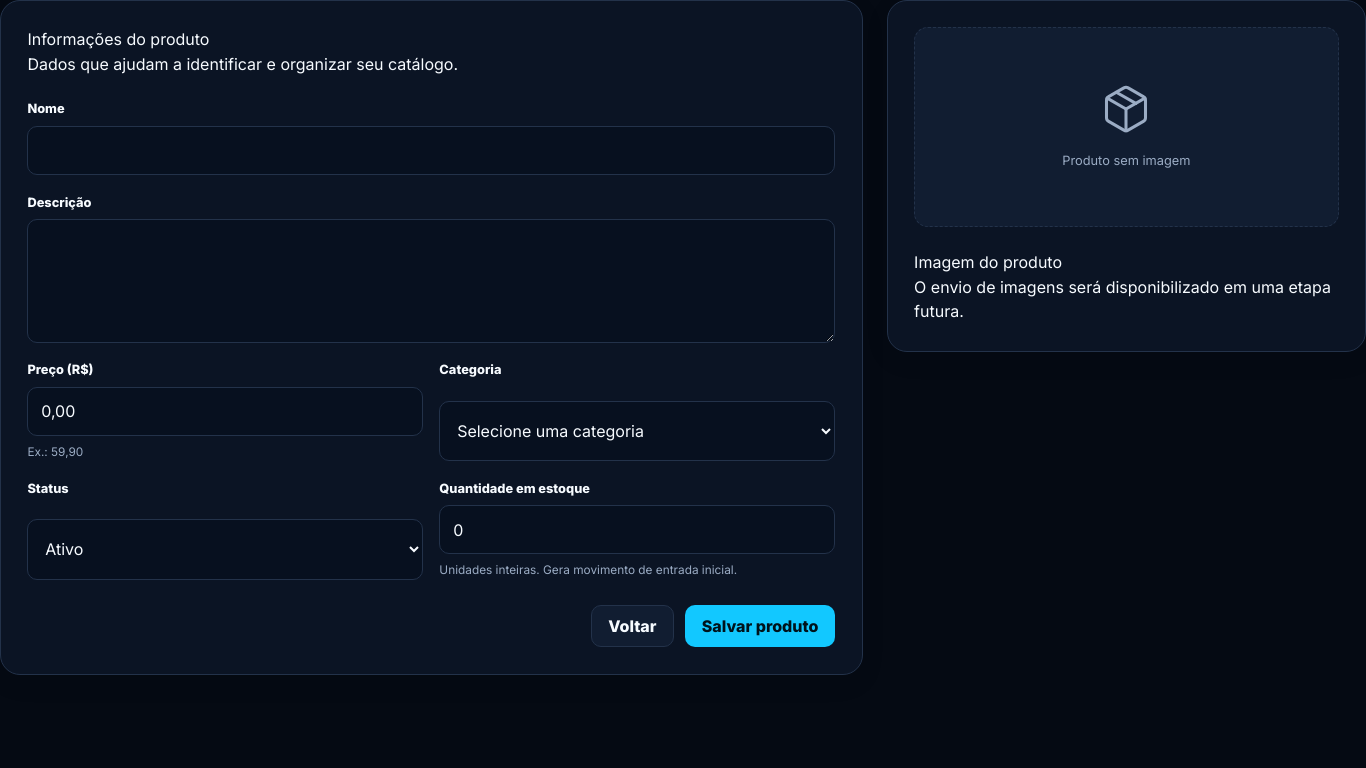
Scenario: painel e catálogo › formulário de produto associa erro monetário e preserva valores
Replace the text in the field labelled "Preço (R$)" with "1,999": [225, 412] box [27, 387, 423, 436]
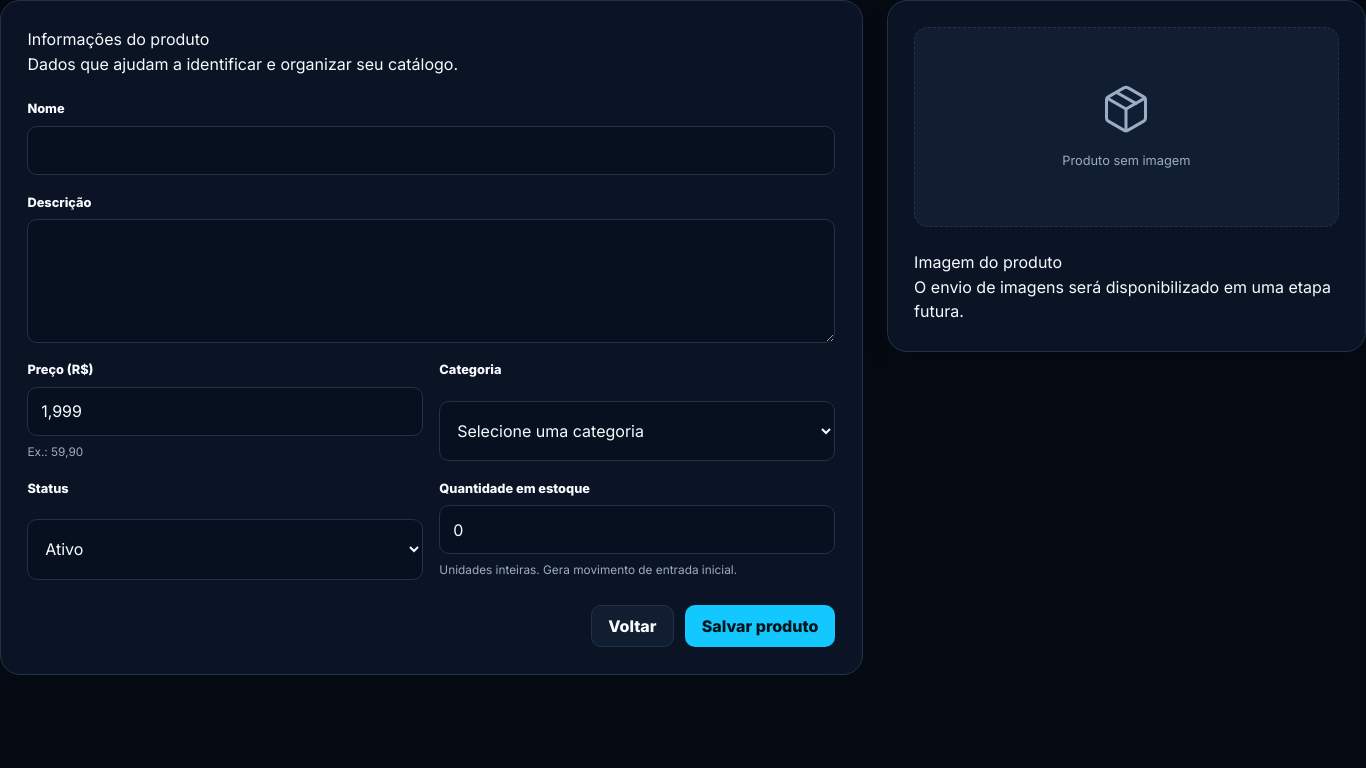
Submit the form named "Preço (R$)"
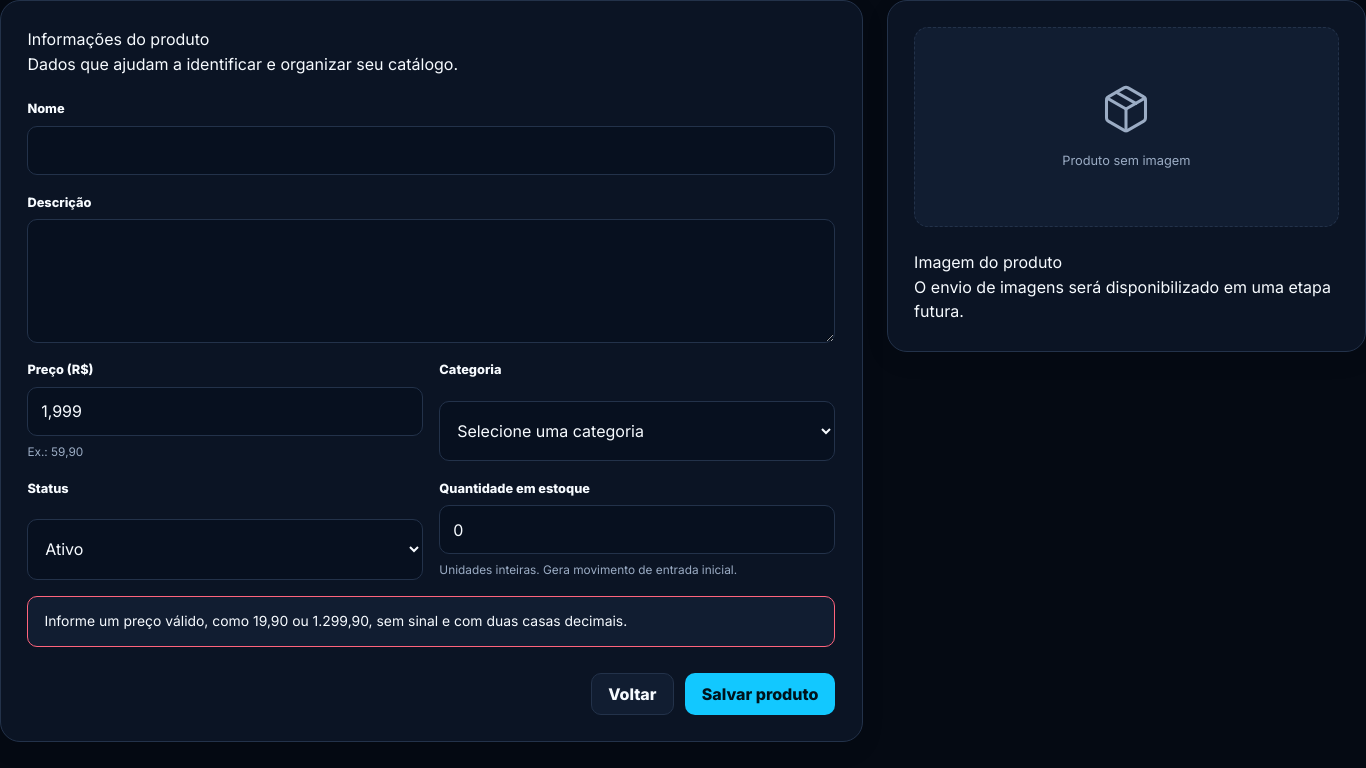
Check: the message shows "Informe um preço válido", box [44, 613, 627, 629]
